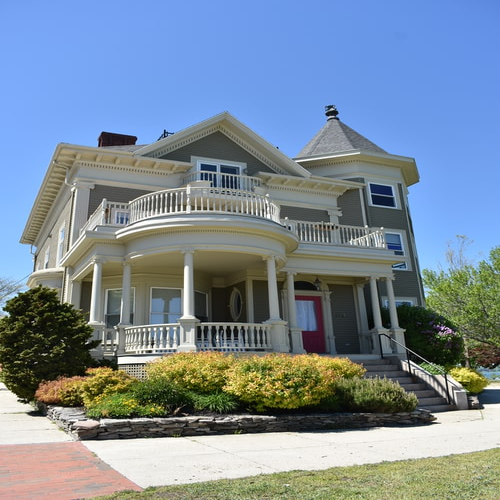Building House: (11, 105, 436, 373)
